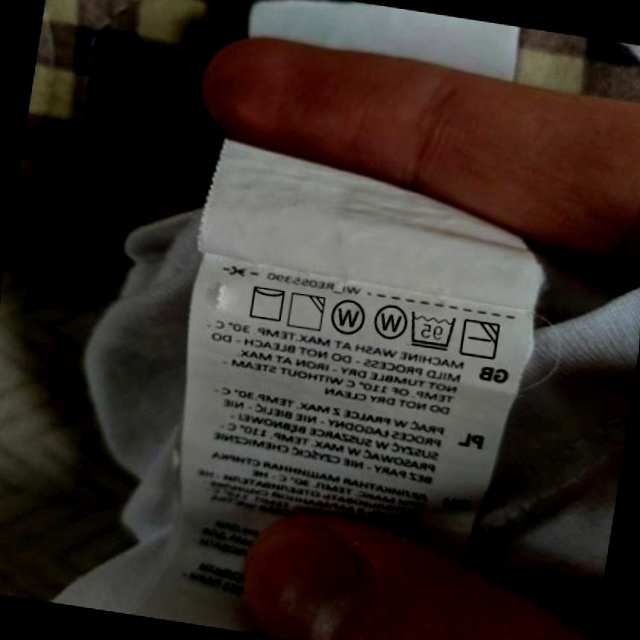95C: (405, 308, 459, 353)
dry_flat_in_shade: (458, 315, 503, 363)
line_dry: (244, 281, 289, 325)
shade_dry: (284, 289, 328, 334)
wet_clean: (327, 295, 369, 340), (369, 298, 410, 343)
